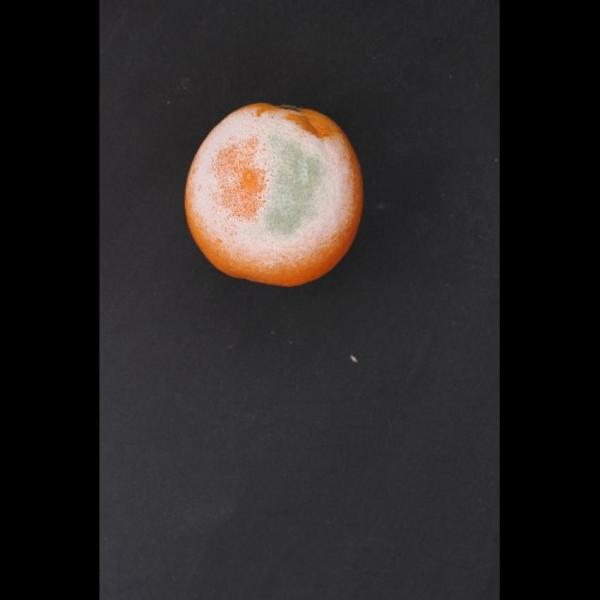Moho verde: (173, 96, 380, 291)
